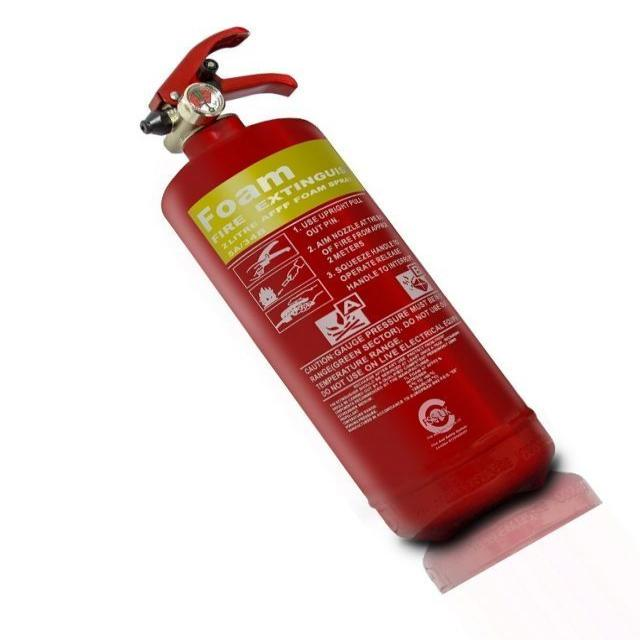fire_extinguisher: (130, 21, 559, 552)
